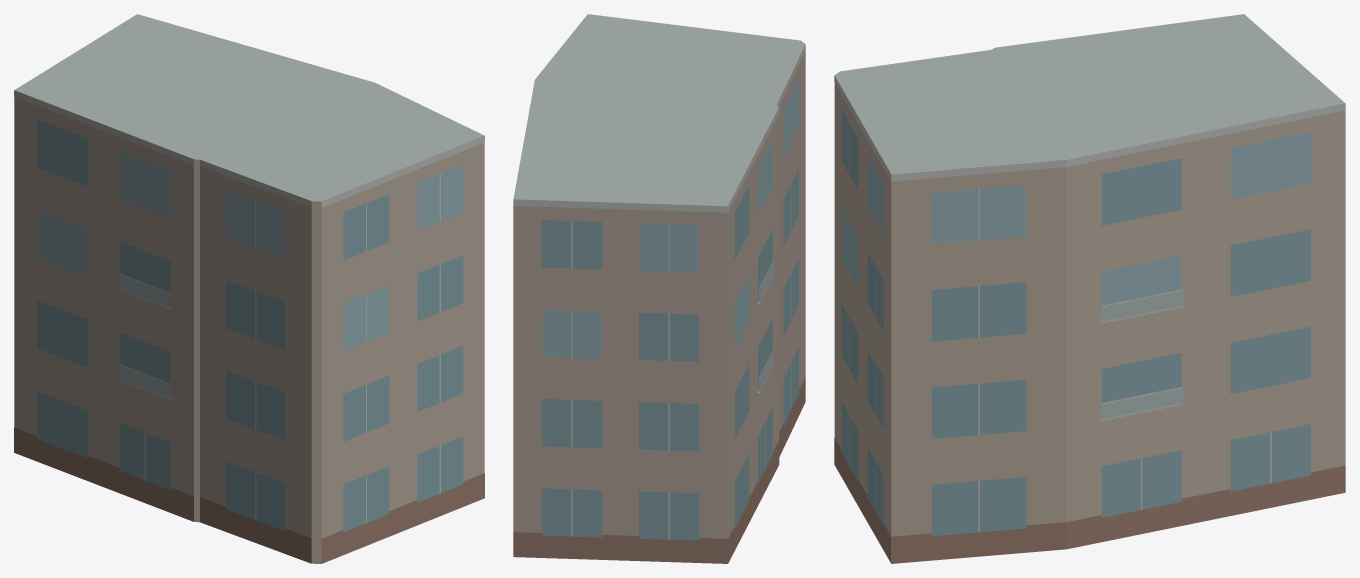
Rendered from survey-upis-32473419.glb.
3 renders of one model, left to right at view 1: azimuth 30°, elevation 25°; view 2: azimuth 150°, elevation 25°; view 3: azimuth 270°, elevation 25°, orthographic. The views are drawn at different scales.
Parts seen in each view (by area): view 1: survey-upis-32473419.tmp; view 2: survey-upis-32473419.tmp; view 3: survey-upis-32473419.tmp.
Part boxes in pixels (box(x1,y1,x2,y2)): survey-upis-32473419.tmp: box(14, 14, 484, 563); survey-upis-32473419.tmp: box(513, 14, 805, 563); survey-upis-32473419.tmp: box(834, 14, 1345, 563).
Bounding box in the file's own units: 11.77 × 13.3 × 15.83.
